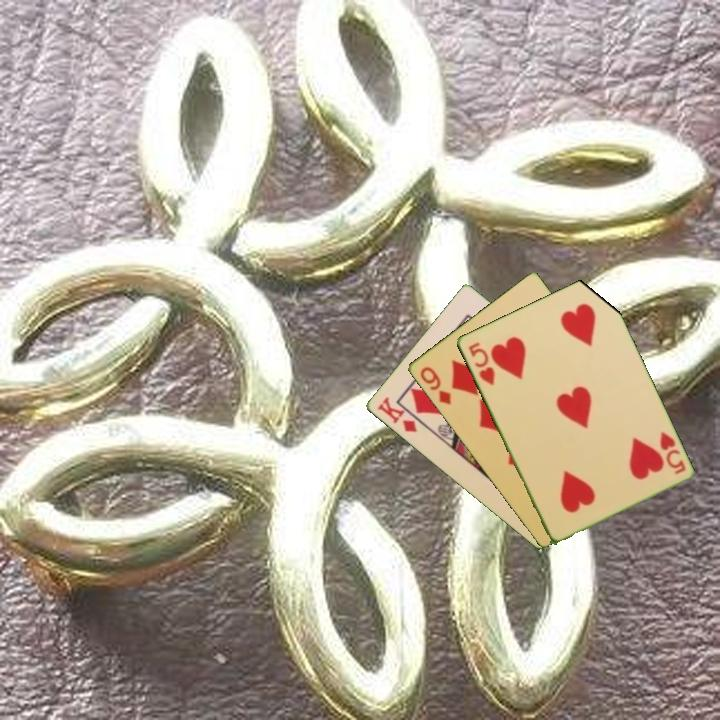5h: (465, 338, 498, 388), (656, 428, 688, 477)
9d: (416, 363, 454, 408)
Kd: (373, 393, 420, 436)
